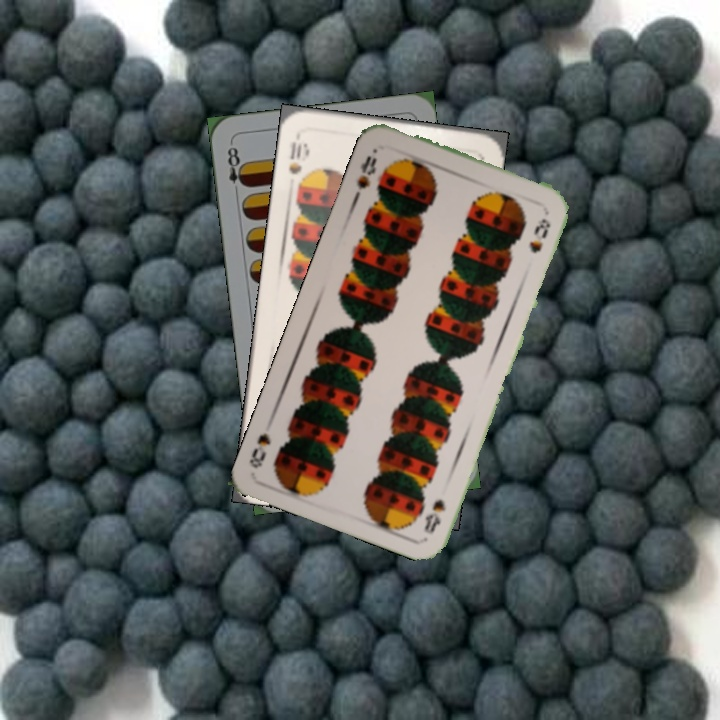E8: (223, 139, 249, 199)
S10: (284, 138, 310, 177)
S8: (350, 151, 380, 200), (420, 495, 448, 537)
